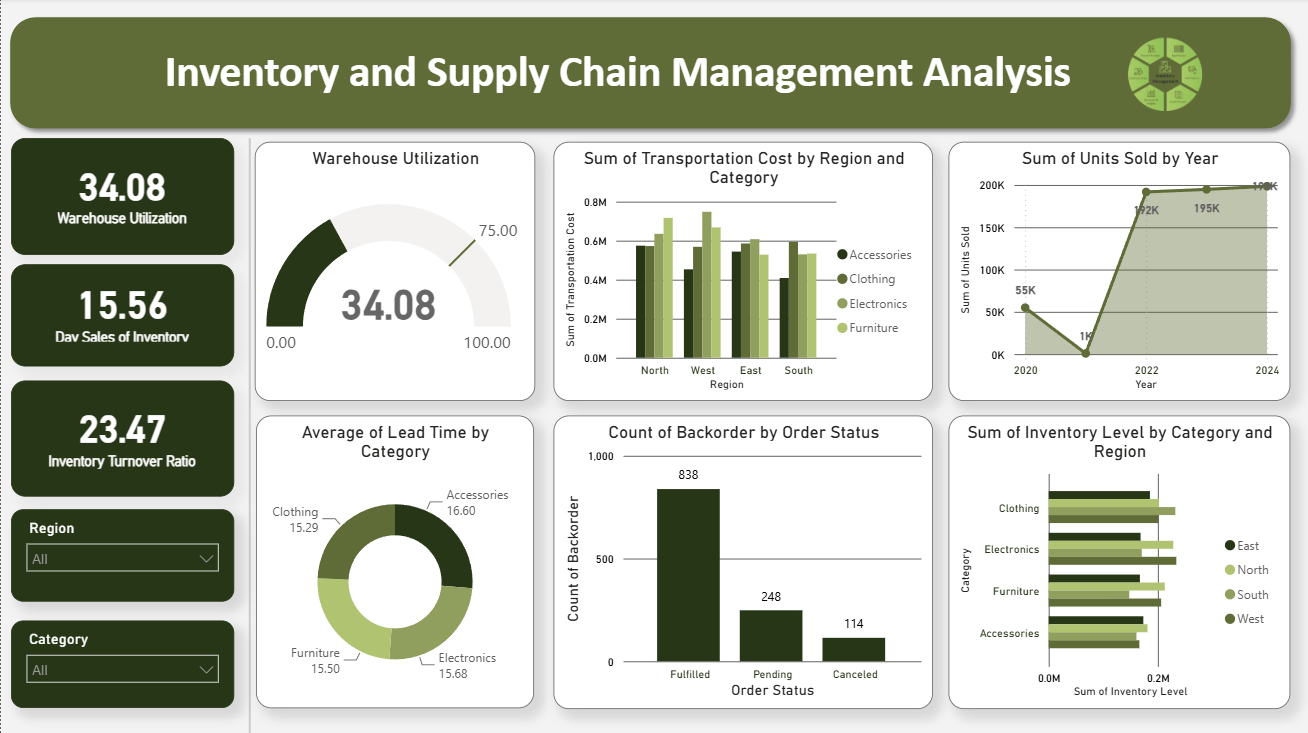

This screenshot's page, from the dashboard's own definition file:
{"tool":"powerbi","page":{"name":"Page 1","canvas":[1280,720],"ordinal":0},"visuals":[{"type":"shape","box":[0,9.6,1270.7,126.9],"z":0},{"type":"textbox","box":[139.2,40.9,928.1,65.5],"z":1000},{"type":"image","box":[1046.9,31.4,184.3,86],"z":2000},{"type":"shape","box":[237.5,136.5,12.3,584.2],"z":3000},{"type":"cardVisual","fields":{"Data":["Inventory_SupplyChain_Dataset.Warehouse Utilization"]},"box":[9.6,136.5,218.4,114.7],"z":4000},{"type":"cardVisual","fields":{"Data":["Inventory_SupplyChain_Dataset.Day Sales of Inventory"]},"box":[9.6,260.7,218.4,99.6],"z":5000},{"type":"cardVisual","fields":{"Data":["Inventory_SupplyChain_Dataset.Inventory Turnover Ratio"]},"box":[9.6,374,218.4,113.3],"z":6000},{"type":"slicer","fields":{"Values":["Inventory_SupplyChain_Dataset.Region"]},"box":[9.6,499.6,218.4,90.1],"z":7000},{"type":"slicer","fields":{"Values":["Inventory_SupplyChain_Dataset.Category"]},"box":[9.6,608.7,218.4,86],"z":8000},{"type":"gauge","fields":{"Y":["Inventory_SupplyChain_Dataset.Warehouse Utilization"]},"box":[248.4,140.6,274.3,253.9],"z":9000},{"type":"clusteredColumnChart","fields":{"Category":["Inventory_SupplyChain_Dataset.Region"],"Series":["Inventory_SupplyChain_Dataset.Category"],"Y":["Sum(Inventory_SupplyChain_Dataset.Transportation Cost)"]},"box":[540.5,140.6,371.3,253.9],"z":10000},{"type":"lineChart","fields":{"Y":["Sum(Inventory_SupplyChain_Dataset.Units Sold)"],"Category":["Inventory_SupplyChain_Dataset.Date.Variation.Date Hierarchy.Year"]},"box":[926.8,140.6,334.4,253.9],"z":11000},{"type":"donutChart","fields":{"Y":["Avg(Inventory_SupplyChain_Dataset.Lead Time)"],"Category":["Inventory_SupplyChain_Dataset.Category"]},"box":[249.8,408.1,271.6,286.6],"z":12000},{"type":"columnChart","fields":{"Y":["CountNonNull(Inventory_SupplyChain_Dataset.Backorder)"],"Category":["Inventory_SupplyChain_Dataset.Order Status"]},"box":[541,408,371,287],"z":13000},{"type":"clusteredBarChart","fields":{"Category":["Inventory_SupplyChain_Dataset.Category"],"Y":["Sum(Inventory_SupplyChain_Dataset.Inventory Level)"],"Series":["Inventory_SupplyChain_Dataset.Region"]},"box":[927,408,334,287],"z":14000}]}

Visuals, with their boxes in screenshot pixels (x1, y1, x2, y2), scaled from the page's 1280x720 canvas onto the 1308x733 screenshot:
shape: <box>0,10,1298,139</box>
textbox: <box>142,42,1091,108</box>
image: <box>1070,32,1258,120</box>
shape: <box>243,139,255,732</box>
cardVisual - Inventory_SupplyChain_Dataset.Warehouse Utilization: <box>10,139,233,256</box>
cardVisual - Inventory_SupplyChain_Dataset.Day Sales of Inventory: <box>10,265,233,367</box>
cardVisual - Inventory_SupplyChain_Dataset.Inventory Turnover Ratio: <box>10,381,233,496</box>
slicer - Inventory_SupplyChain_Dataset.Region: <box>10,509,233,600</box>
slicer - Inventory_SupplyChain_Dataset.Category: <box>10,620,233,707</box>
gauge - Inventory_SupplyChain_Dataset.Warehouse Utilization: <box>254,143,534,402</box>
clusteredColumnChart - Inventory_SupplyChain_Dataset.Region x Inventory_SupplyChain_Dataset.Category: <box>552,143,932,402</box>
lineChart - Sum(Inventory_SupplyChain_Dataset.Units Sold) x Inventory_SupplyChain_Dataset.Date.Variation.Date Hierarchy.Year: <box>947,143,1289,402</box>
donutChart - Avg(Inventory_SupplyChain_Dataset.Lead Time) x Inventory_SupplyChain_Dataset.Category: <box>255,415,533,707</box>
columnChart - CountNonNull(Inventory_SupplyChain_Dataset.Backorder) x Inventory_SupplyChain_Dataset.Order Status: <box>553,415,932,708</box>
clusteredBarChart - Inventory_SupplyChain_Dataset.Category x Sum(Inventory_SupplyChain_Dataset.Inventory Level): <box>947,415,1289,708</box>
